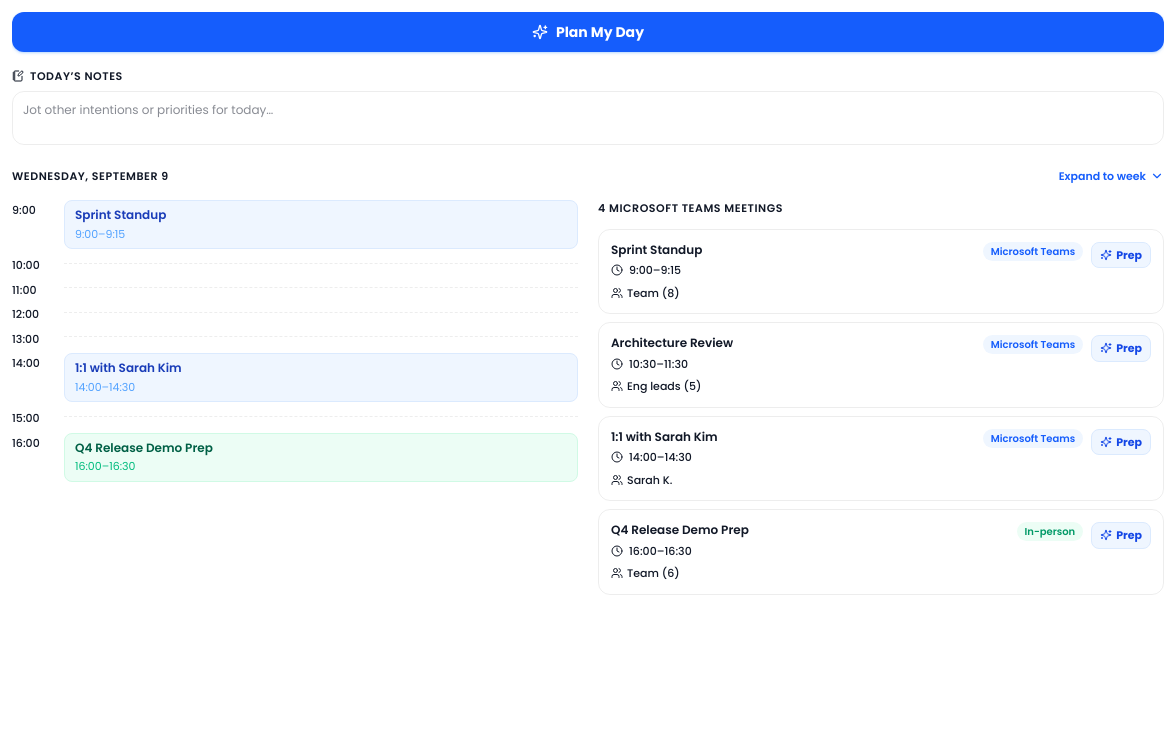
CalendarWidget — week view › switches from single-day to a weekly layout when expanded
The image size is (1176, 732).
Click the button "Expand to week": x=1111, y=176 top-left (1059, 168), bottom-right (1164, 184)
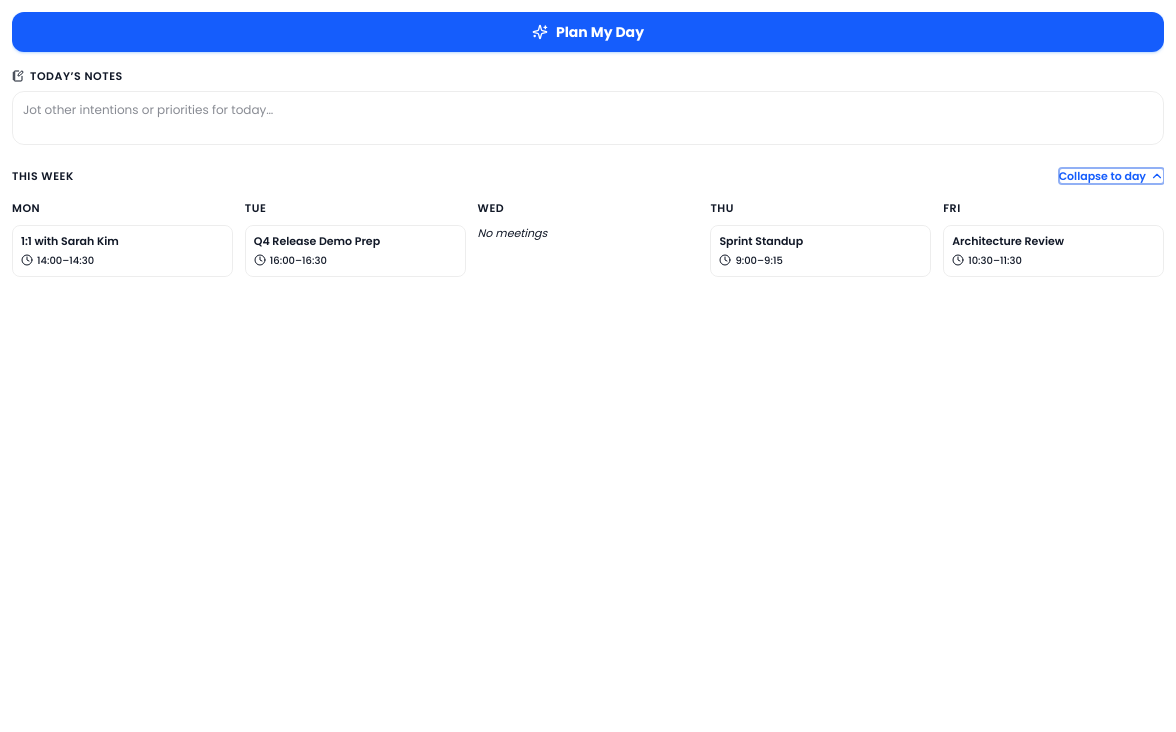
Expected: the button "Collapse to day" is expanded, top-left (1059, 168), bottom-right (1164, 184)
Expected: the text "Mon" is shown, top-left (12, 200), bottom-right (40, 216)
Expected: the text "Fri" is shown, top-left (943, 200), bottom-right (961, 216)
